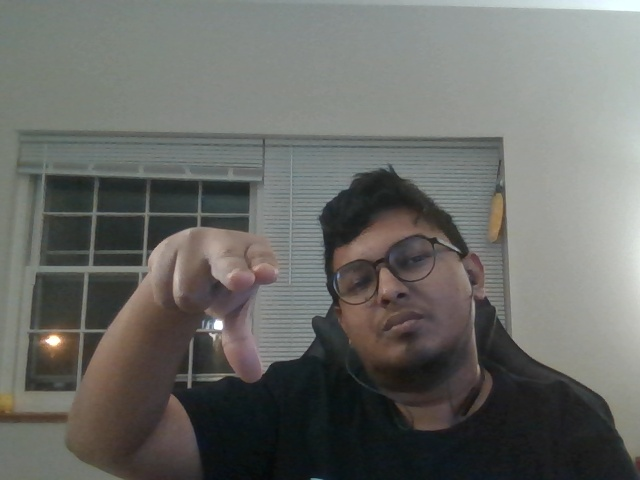no: (140, 219, 287, 389)
